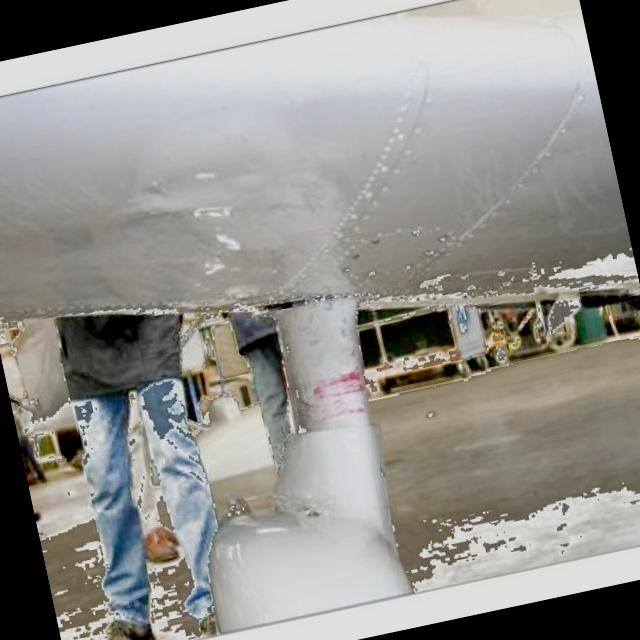dent: (188, 192, 253, 223)
